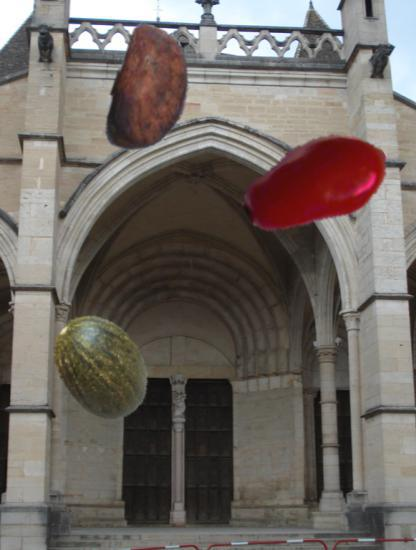Chestnut: (85, 27, 216, 158)
Melon: (44, 313, 154, 423)
Tomato: (242, 110, 391, 259)
